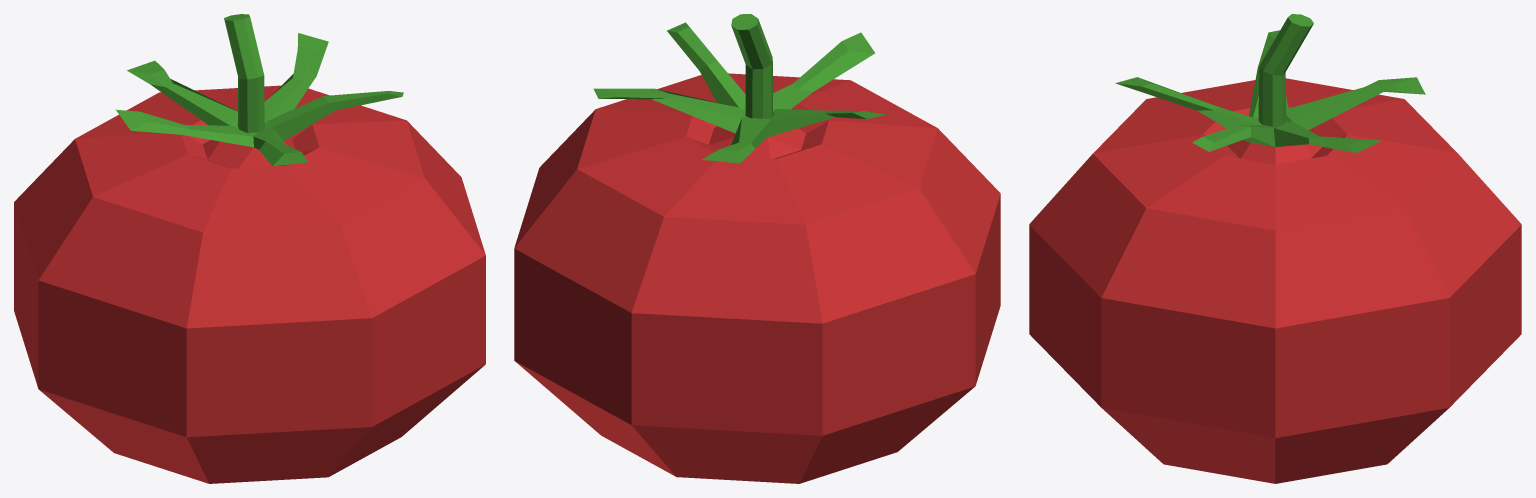
The model's file is tomato.fbx.
The picture shows the model from 3 angles, left to right: view 1: azimuth 30°, elevation 25°; view 2: azimuth 150°, elevation 25°; view 3: azimuth 270°, elevation 25°; orthographic projection. The views are drawn at different scales.
Parts seen in each view (by area): view 1: Cylinder.040, Cylinder.041; view 2: Cylinder.040, Cylinder.041; view 3: Cylinder.040, Cylinder.041.
Boxes of the visible parts, x1,y1,x2,y2 form: Cylinder.040: (14,85,485,483); Cylinder.041: (116,14,403,166); Cylinder.040: (514,73,1000,483); Cylinder.041: (593,14,886,163); Cylinder.040: (1029,78,1521,483); Cylinder.041: (1115,14,1425,153).
Bounding box in the file's own units: 4.72 × 4.53 × 4.72.
